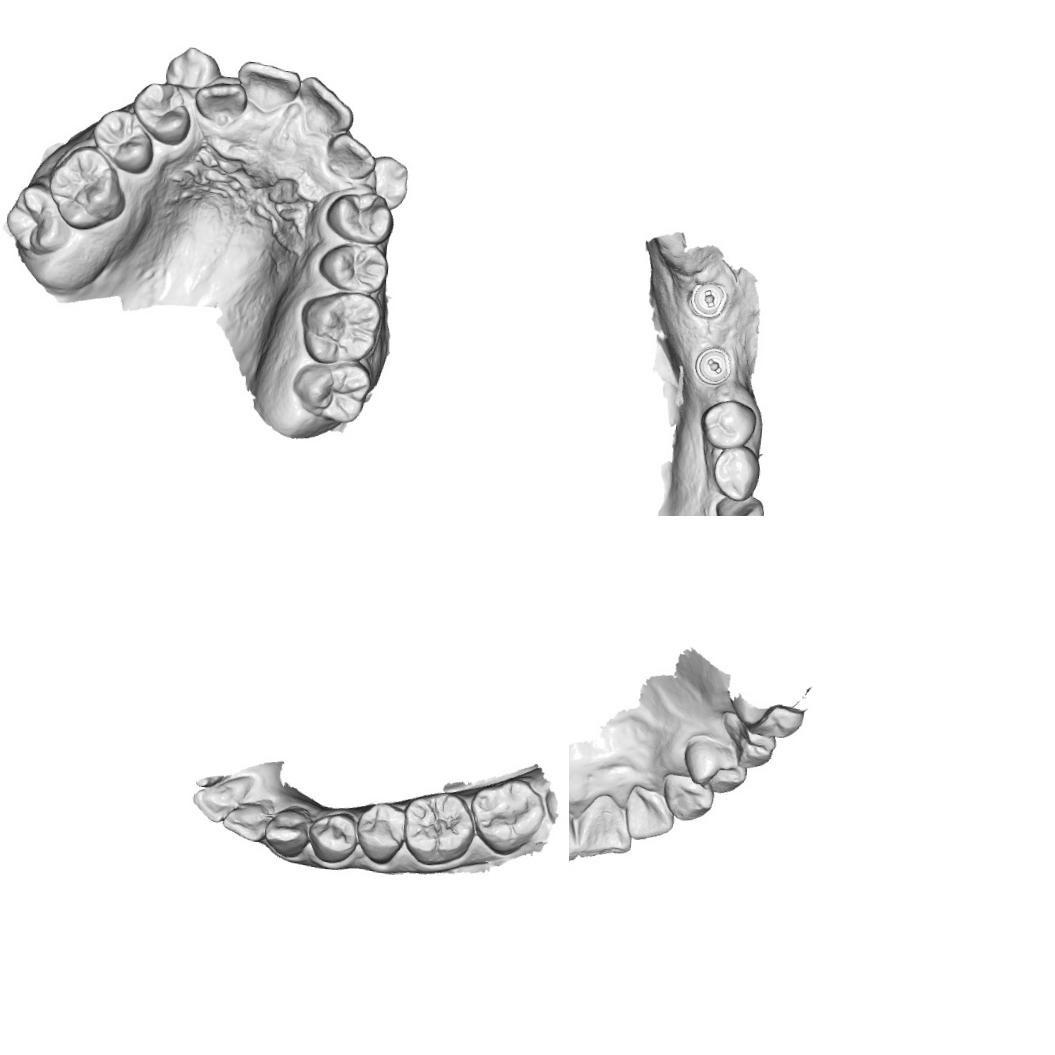canine: (160, 40, 226, 100), (657, 768, 716, 824), (366, 151, 413, 212), (262, 802, 312, 859), (711, 492, 765, 516)
implant_minus: (686, 278, 729, 320), (692, 344, 734, 386)
incisor: (231, 58, 305, 120), (571, 792, 636, 862), (292, 72, 360, 137), (317, 128, 380, 186), (190, 768, 254, 825), (191, 76, 252, 128), (622, 784, 676, 842), (220, 791, 273, 844), (569, 794, 582, 868)
molar: (42, 141, 134, 236), (296, 285, 387, 370), (465, 773, 549, 857), (400, 787, 478, 869), (288, 354, 372, 429), (0, 180, 72, 258)
premolar: (87, 104, 158, 176), (128, 78, 196, 147), (320, 186, 396, 247), (314, 238, 392, 296), (678, 734, 750, 796), (352, 799, 406, 867), (697, 396, 758, 452), (710, 442, 762, 503), (305, 808, 359, 866)
